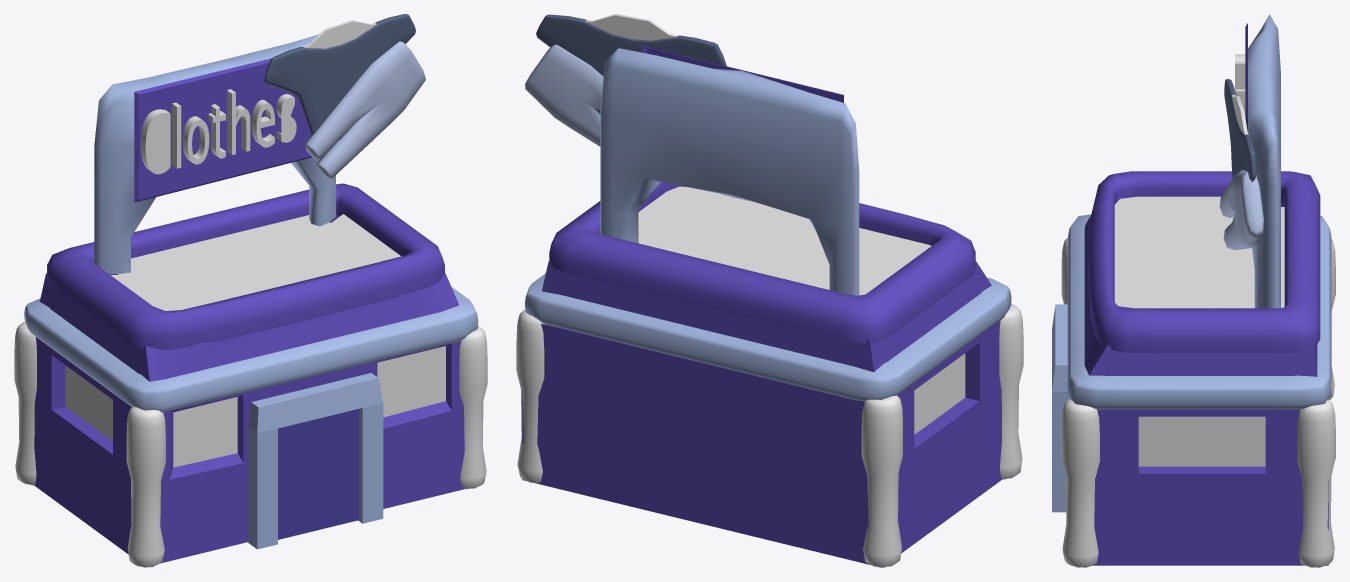
The model's file is Clothesshop1.fbx.
3 renders of one model, left to right at view 1: azimuth 30°, elevation 25°; view 2: azimuth 150°, elevation 25°; view 3: azimuth 270°, elevation 25°, orthographic. The views are drawn at different scales.
Parts seen in each view (by area): view 1: polySurface8, polySurface1, polySurface7, polySurface6, polySurface5, pCube8, pCube25, pCube23, typeMesh2, pCylinder6, pCylinder3, pCylinder5 (+1 smaller); view 2: polySurface8, polySurface5, polySurface1, polySurface7, pCylinder5, pCube25, pCube23, pCylinder4, pCylinder6, pCube24, polySurface6; view 3: polySurface8, polySurface1, polySurface7, polySurface5, pCylinder3, pCylinder4, pCube8, pCube25, pCube23, typeMesh2, pCylinder6, pCylinder5.
Boxes of the visible parts, x1=… form: polySurface8: x1=34, y1=214, x2=465, y2=563; polySurface1: x1=47, y1=183, x2=444, y2=349; polySurface7: x1=24, y1=287, x2=478, y2=412; polySurface6: x1=134, y1=58, x2=312, y2=202; polySurface5: x1=94, y1=34, x2=335, y2=274; pCube8: x1=247, y1=373, x2=383, y2=549; pCube25: x1=305, y1=41, x2=425, y2=178; pCube23: x1=264, y1=14, x2=415, y2=139; typeMesh2: x1=140, y1=89, x2=296, y2=174; pCylinder6: x1=126, y1=406, x2=165, y2=567; pCylinder3: x1=449, y1=326, x2=487, y2=489; pCylinder5: x1=14, y1=322, x2=36, y2=485; polySurface8: x1=522, y1=186, x2=1002, y2=567; polySurface5: x1=600, y1=48, x2=859, y2=295; polySurface1: x1=549, y1=181, x2=975, y2=343; polySurface7: x1=524, y1=273, x2=1011, y2=401; pCylinder5: x1=861, y1=395, x2=902, y2=567; pCube25: x1=525, y1=44, x2=603, y2=146; pCube23: x1=536, y1=14, x2=726, y2=113; pCylinder4: x1=516, y1=309, x2=545, y2=482; pCylinder6: x1=999, y1=304, x2=1023, y2=479; pCube24: x1=585, y1=14, x2=677, y2=40; polySurface6: x1=642, y1=45, x2=843, y2=102; polySurface8: x1=1084, y1=196, x2=1328, y2=565; polySurface1: x1=1088, y1=171, x2=1320, y2=352; polySurface7: x1=1067, y1=214, x2=1331, y2=409; polySurface5: x1=1248, y1=14, x2=1280, y2=308; pCylinder3: x1=1061, y1=399, x2=1099, y2=567; pCylinder4: x1=1297, y1=399, x2=1335, y2=567; pCube8: x1=1052, y1=304, x2=1068, y2=512; pCube25: x1=1219, y1=170, x2=1263, y2=250; pCube23: x1=1224, y1=79, x2=1256, y2=181; typeMesh2: x1=1235, y1=54, x2=1245, y2=115; pCylinder6: x1=1061, y1=238, x2=1067, y2=304; pCylinder5: x1=1328, y1=240, x2=1335, y2=400.
Bounding box in the file's own units: 32.71 × 34.59 × 20.43.
